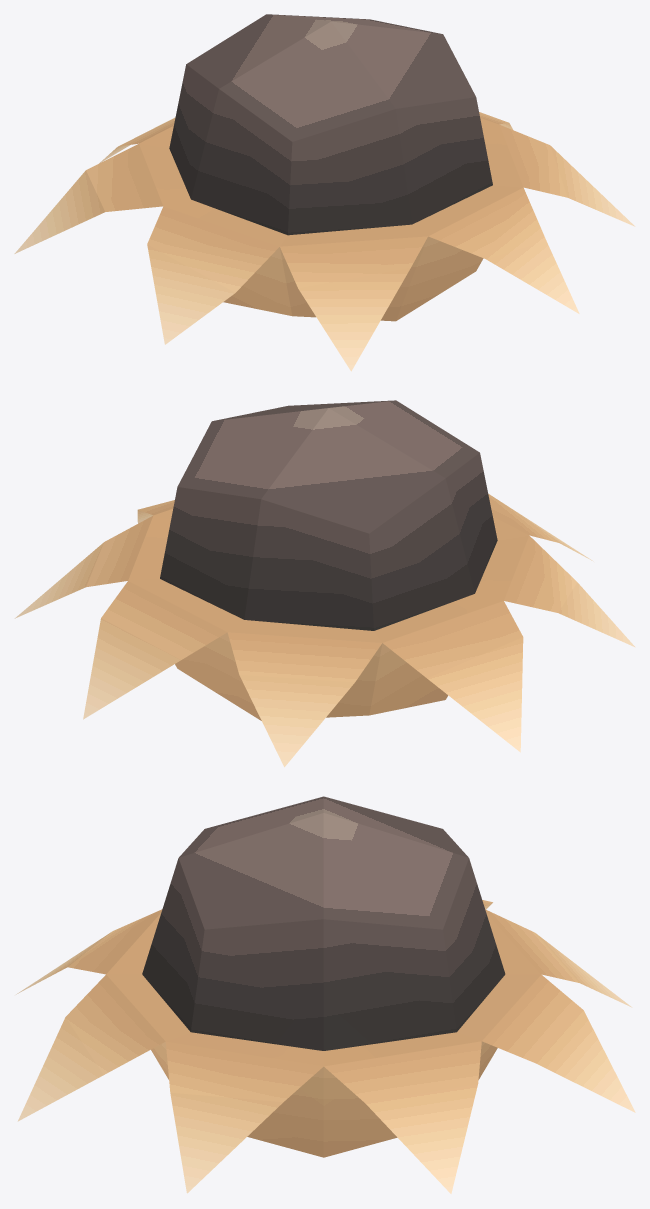
Rendered from Puffball_Opened.glb.
3 renders of one model, top to bottom at view 1: azimuth 30°, elevation 25°; view 2: azimuth 150°, elevation 25°; view 3: azimuth 270°, elevation 25°, orthographic. The views are drawn at different scales.
Visible parts, largest first — view 1: Cube.002; view 2: Cube.002; view 3: Cube.002.
Part boxes in pixels (x1=…): Cube.002: x1=14, y1=14, x2=635, y2=371; Cube.002: x1=14, y1=400, x2=635, y2=767; Cube.002: x1=16, y1=796, x2=635, y2=1193.
Size of the model in its own units: 4.44 by 2.51 by 4.3.
1 material, 1 textured.
